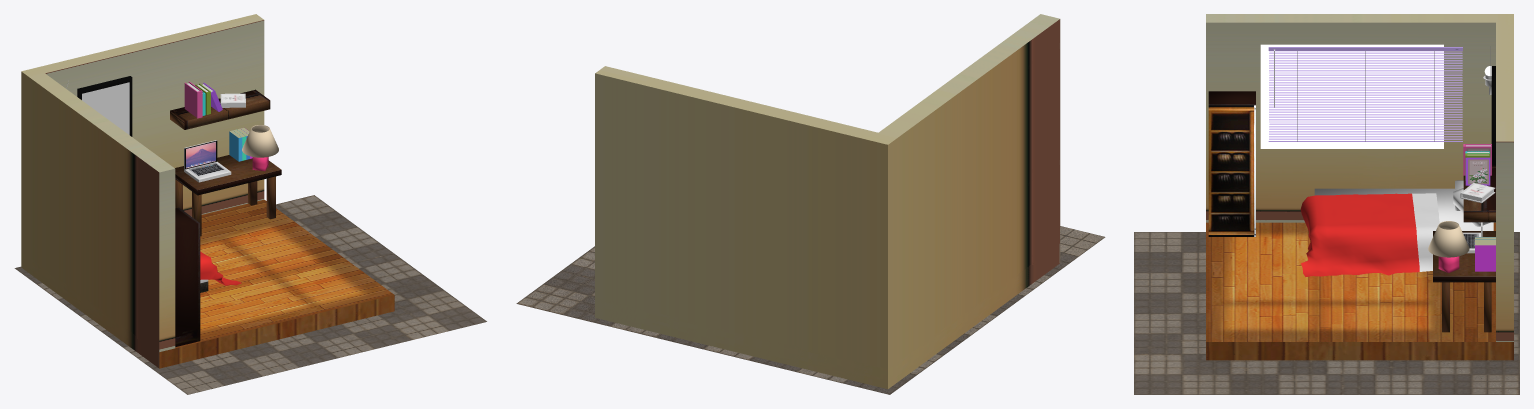
Rendered from BBBannn.glb.
The picture shows the model from 3 angles, left to right: view 1: azimuth 30°, elevation 25°; view 2: azimuth 150°, elevation 25°; view 3: azimuth 270°, elevation 25°; orthographic projection. The views are drawn at different scales.
Visible parts, largest first — view 1: Room, Plane, Cube.005, Table, Cube.007, Cube.001, Cube.004, Lampshade.001, Book, Plane_ClothB_0; view 2: Room, Plane; view 3: Room, Plane, Venetian_slats, Plane_ClothB_0, Cube.005, Table, Cube, Plane_Cloth_0, Lampshade.001, Cube.001, VenetianFrame, Book.003 (+4 smaller).
Part boxes in pixels (x1=…): Room: x1=21, y1=14, x2=394, y2=368; Plane: x1=14, y1=195, x2=486, y2=394; Cube.005: x1=175, y1=207, x2=200, y2=346; Table: x1=175, y1=155, x2=281, y2=236; Cube.007: x1=77, y1=76, x2=132, y2=136; Cube.001: x1=170, y1=89, x2=270, y2=129; Cube.004: x1=184, y1=140, x2=231, y2=182; Lampshade.001: x1=242, y1=125, x2=278, y2=157; Book: x1=184, y1=81, x2=202, y2=118; Plane_ClothB_0: x1=200, y1=251, x2=241, y2=285; Room: x1=595, y1=14, x2=1060, y2=389; Plane: x1=516, y1=226, x2=1105, y2=394; Room: x1=1206, y1=14, x2=1513, y2=360; Plane: x1=1134, y1=232, x2=1519, y2=394; Venetian_slats: x1=1269, y1=51, x2=1462, y2=139; Plane_ClothB_0: x1=1300, y1=193, x2=1419, y2=276; Cube.005: x1=1208, y1=91, x2=1255, y2=236; Table: x1=1433, y1=231, x2=1495, y2=332; Cube: x1=1314, y1=188, x2=1493, y2=230; Plane_Cloth_0: x1=1412, y1=193, x2=1439, y2=271; Lampshade.001: x1=1428, y1=221, x2=1469, y2=257; Cube.001: x1=1463, y1=165, x2=1495, y2=222; VenetianFrame: x1=1268, y1=47, x2=1462, y2=50; Book.003: x1=1465, y1=157, x2=1490, y2=185.
Size of the model in its own units: 10 by 6.3 by 10.
44 materials, 11 textured.
